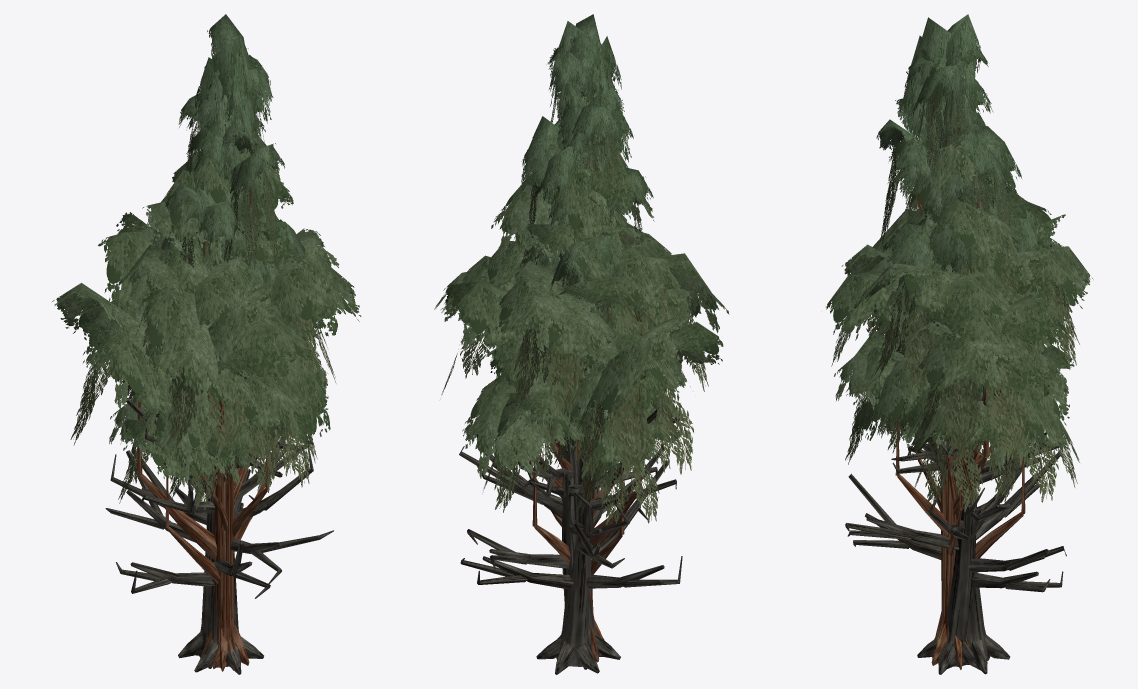
Rendered from vado_arboles.glb.
3 views of the same model, side by side, from view 1: azimuth 30°, elevation 25°; view 2: azimuth 150°, elevation 25°; view 3: azimuth 270°, elevation 25° (orthographic).
Visible parts, largest first — view 1: roble_02__tree_detailed, pino_04__tree_pineTallD_detailed, roble_03__tree_oak_dark, roble_01__tree_oak, arbol_muerto_02__stump_old, arbol_muerto_01__stump_oldTall, pino_02__tree_pineTallB_detailed; view 2: roble_02__tree_detailed, pino_04__tree_pineTallD_detailed, roble_01__tree_oak, arbol_muerto_01__stump_oldTall, roble_03__tree_oak_dark, arbol_muerto_02__stump_old, pino_02__tree_pineTallB_detailed; view 3: roble_02__tree_detailed, pino_04__tree_pineTallD_detailed, roble_01__tree_oak, roble_03__tree_oak_dark, arbol_muerto_02__stump_old, arbol_muerto_01__stump_oldTall, pino_02__tree_pineTallB_detailed.
Boxes of the visible parts, left/top/right/bottom form: roble_02__tree_detailed: left=52, top=131, right=361, bottom=671; pino_04__tree_pineTallD_detailed: left=161, top=14, right=305, bottom=668; roble_03__tree_oak_dark: left=109, top=352, right=328, bottom=670; roble_01__tree_oak: left=120, top=236, right=330, bottom=537; arbol_muerto_02__stump_old: left=110, top=413, right=333, bottom=674; arbol_muerto_01__stump_oldTall: left=105, top=398, right=313, bottom=668; pino_02__tree_pineTallB_detailed: left=194, top=119, right=263, bottom=283; roble_02__tree_detailed: left=434, top=138, right=729, bottom=662; pino_04__tree_pineTallD_detailed: left=514, top=14, right=653, bottom=365; roble_01__tree_oak: left=462, top=218, right=666, bottom=564; arbol_muerto_01__stump_oldTall: left=460, top=406, right=679, bottom=674; roble_03__tree_oak_dark: left=486, top=345, right=685, bottom=637; arbol_muerto_02__stump_old: left=459, top=350, right=682, bottom=669; pino_02__tree_pineTallB_detailed: left=536, top=82, right=616, bottom=316; roble_02__tree_detailed: left=826, top=142, right=1093, bottom=669; pino_04__tree_pineTallD_detailed: left=876, top=14, right=1039, bottom=659; roble_01__tree_oak: left=834, top=253, right=1079, bottom=661; roble_03__tree_oak_dark: left=866, top=350, right=1031, bottom=664; arbol_muerto_02__stump_old: left=845, top=385, right=1066, bottom=674; arbol_muerto_01__stump_oldTall: left=848, top=348, right=1063, bottom=674; pino_02__tree_pineTallB_detailed: left=912, top=82, right=1010, bottom=273.
Size of the model in its own units: 5.47 by 10.5 by 4.92.
Materials: 1 (1 with a texture image).
